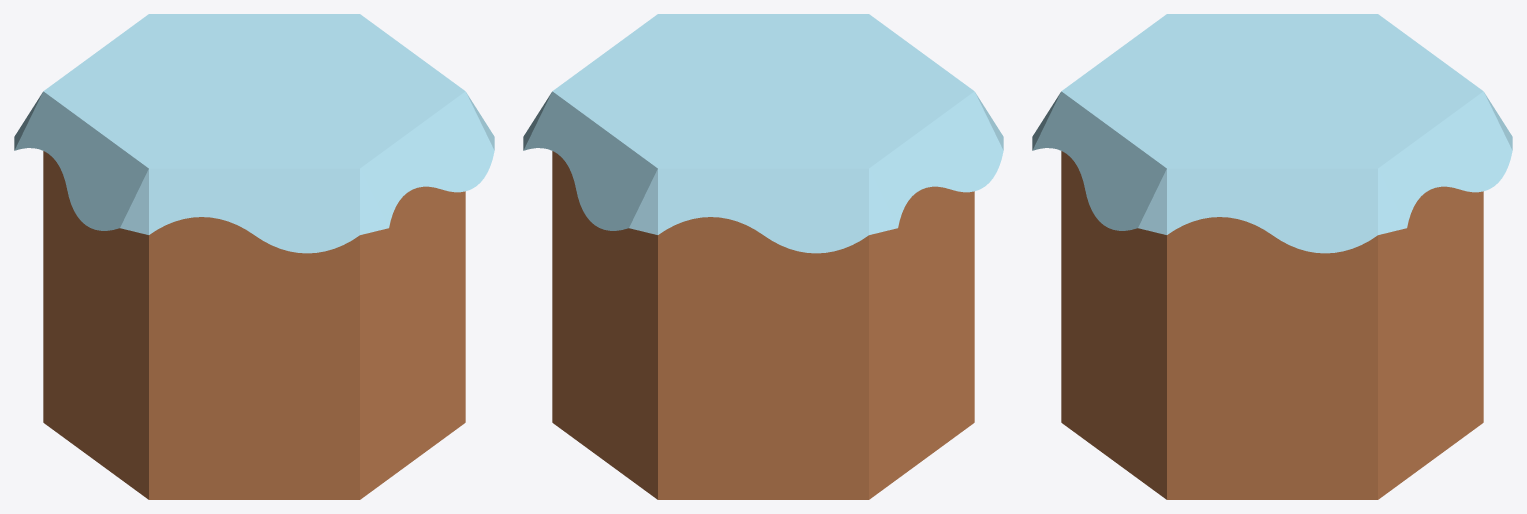
The model's file is blockSnowHexagon.glb.
3 renders of one model, left to right at view 1: azimuth 30°, elevation 25°; view 2: azimuth 150°, elevation 25°; view 3: azimuth 270°, elevation 25°, orthographic.
Parts seen in each view (by area): view 1: blockSnowHexagon; view 2: blockSnowHexagon; view 3: blockSnowHexagon.
Boxes of the visible parts, x1,y1,x2,y2 form: blockSnowHexagon: (14, 14, 494, 499); blockSnowHexagon: (523, 14, 1003, 499); blockSnowHexagon: (1032, 14, 1512, 499).
Size of the model in its own units: 1.23 by 1 by 1.31.
